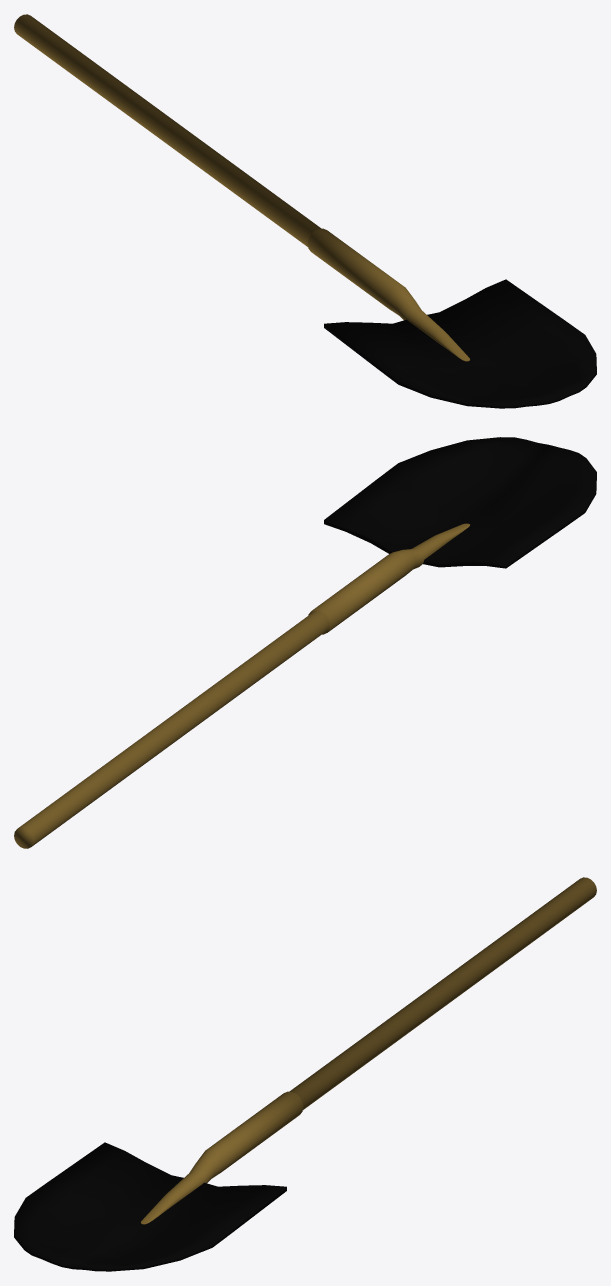
Rendered from tool5.fbx.
3 renders of one model, top to bottom at view 1: azimuth 30°, elevation 25°; view 2: azimuth 150°, elevation 25°; view 3: azimuth 330°, elevation 25°, orthographic.
Visible parts, largest first — view 1: Shovel_Cube.002; view 2: Shovel_Cube.002; view 3: Shovel_Cube.002.
Boxes of the visible parts, bbox=[...] form: Shovel_Cube.002: bbox=[14, 14, 596, 408]; Shovel_Cube.002: bbox=[14, 437, 596, 848]; Shovel_Cube.002: bbox=[14, 877, 596, 1271].
Size of the model in its own units: 1356 by 186 by 6600.
